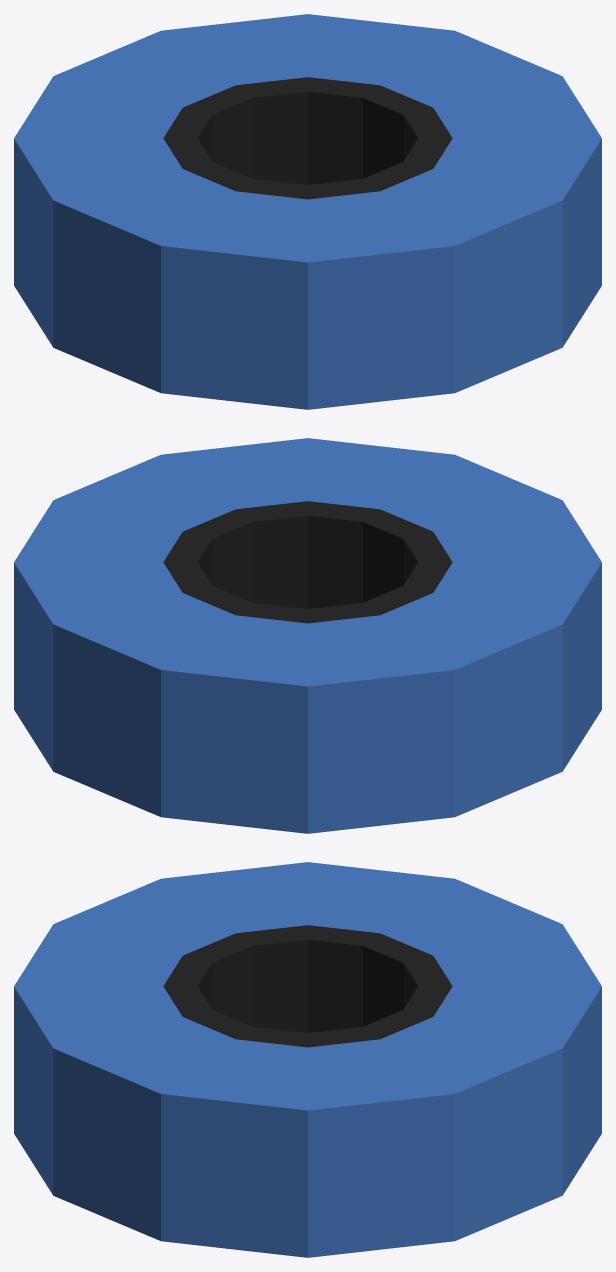
File: Tape_vc.fbx
The picture shows the model from 3 angles, top to bottom: view 1: azimuth 30°, elevation 25°; view 2: azimuth 150°, elevation 25°; view 3: azimuth 270°, elevation 25°; orthographic projection.
Visible parts, largest first — view 1: Tape_vc; view 2: Tape_vc; view 3: Tape_vc.
Boxes of the visible parts, <box> form: Tape_vc: <box>14,14,601,409</box>; Tape_vc: <box>14,438,601,833</box>; Tape_vc: <box>14,862,601,1257</box>.
Size of the model in its own units: 9.16 by 2.53 by 9.16.
